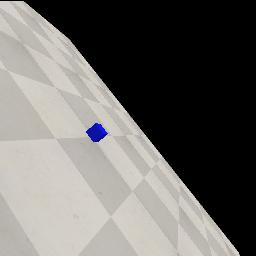box: (86, 123, 108, 142)
